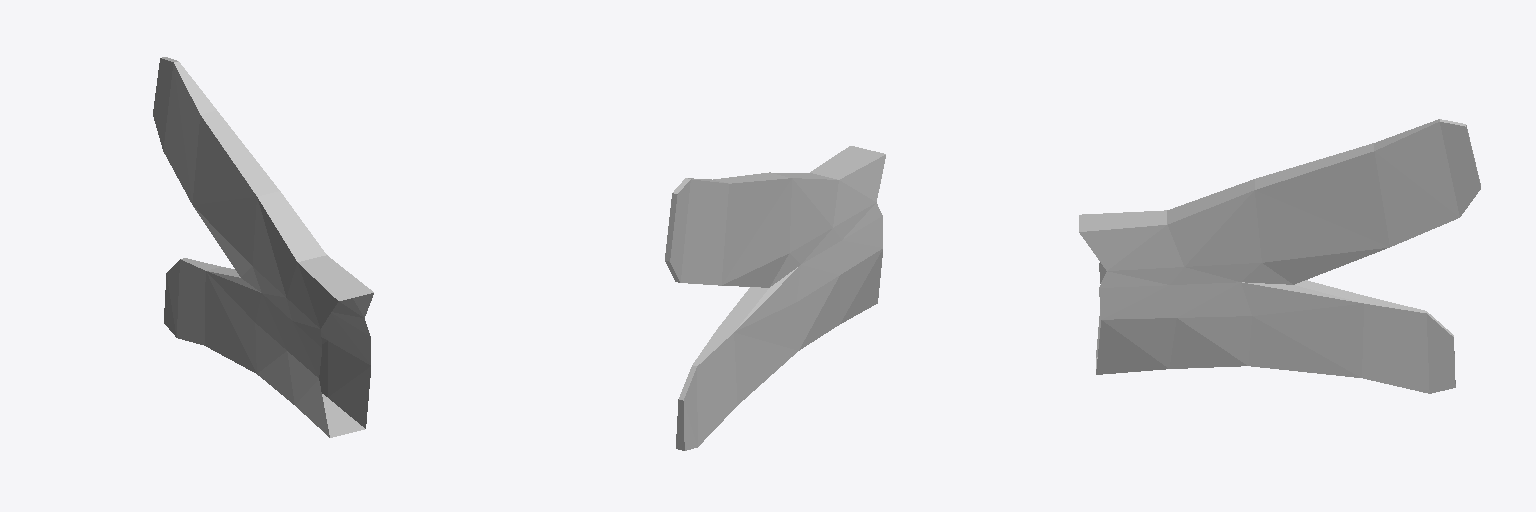
The model's file is PezC10.obj.
The picture shows the model from 3 angles: view 1: azimuth 30°, elevation 25°; view 2: azimuth 150°, elevation 25°; view 3: azimuth 270°, elevation 25°; orthographic projection.
Visible parts, largest first — view 1: polySurface2 TropicalFish07:TropicalFish07; view 2: polySurface2 TropicalFish07:TropicalFish07; view 3: polySurface2 TropicalFish07:TropicalFish07.
Part boxes in pixels (left/top/right/bottom): polySurface2 TropicalFish07:TropicalFish07: left=153, top=57, right=373, bottom=437; polySurface2 TropicalFish07:TropicalFish07: left=665, top=146, right=885, bottom=450; polySurface2 TropicalFish07:TropicalFish07: left=1079, top=119, right=1480, bottom=393.
Size of the model in its own units: 0.3703 by 1.83 by 2.46.